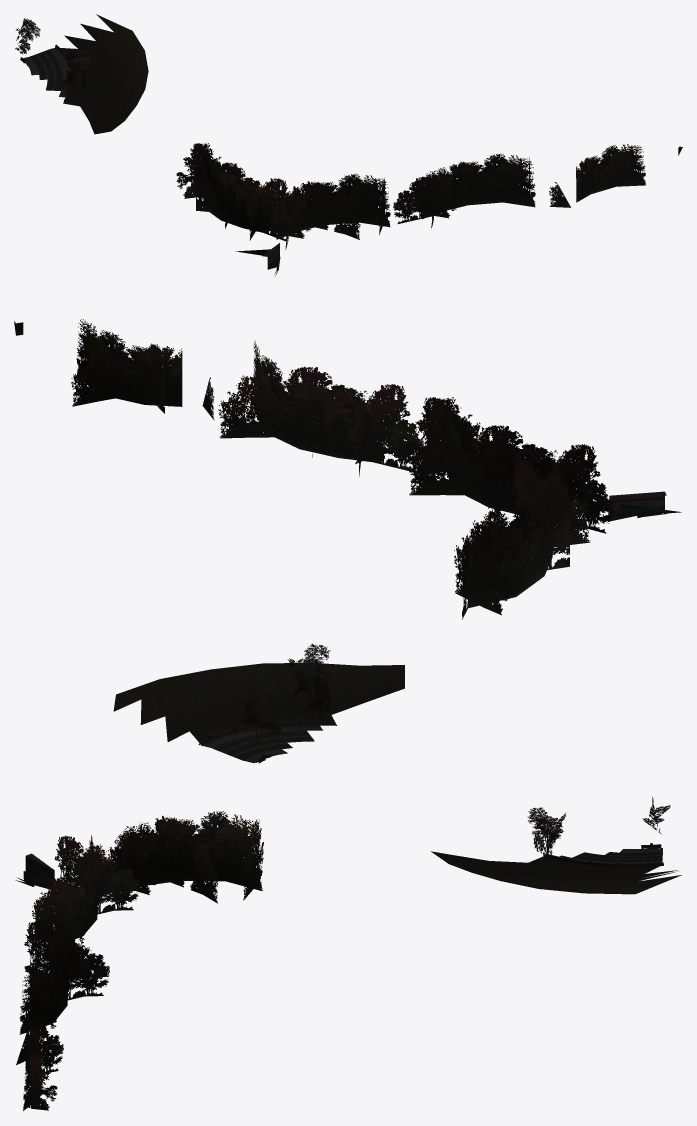
File: cell_6_-11.gltf
3 views of the same model, one above another, from view 1: azimuth 30°, elevation 25°; view 2: azimuth 150°, elevation 25°; view 3: azimuth 270°, elevation 25° (orthographic). The views are drawn at different scales.
Parts seen in each view (by area): view 1: cell_6_-11; view 2: cell_6_-11; view 3: cell_6_-11.
Part boxes in pixels (<box>): cell_6_-11: <box>15,14,682,276</box>; cell_6_-11: <box>14,319,681,763</box>; cell_6_-11: <box>15,797,681,1110</box>.
Size of the model in its own units: 248 by 42.29 by 270.
20 materials, 20 textured.
